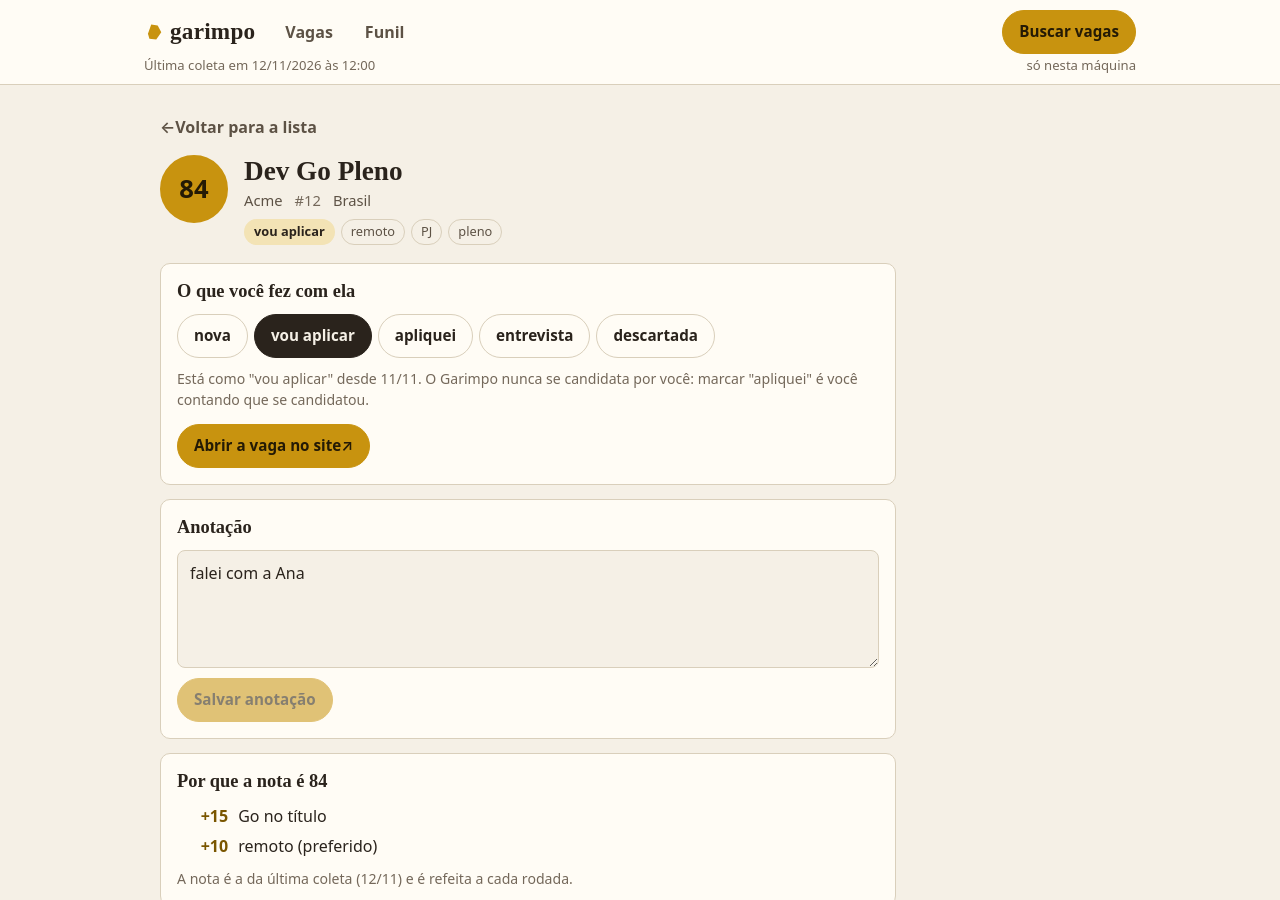
Scenario: the posting › saves and clears the note
Check: the button "Salvar anotação" is disabled, box [177,678,332,722]
Replace the text in the text box labelled "Anotação" with "faixa de 9 a 11 mil" at (528, 609), box [177,550,879,668]
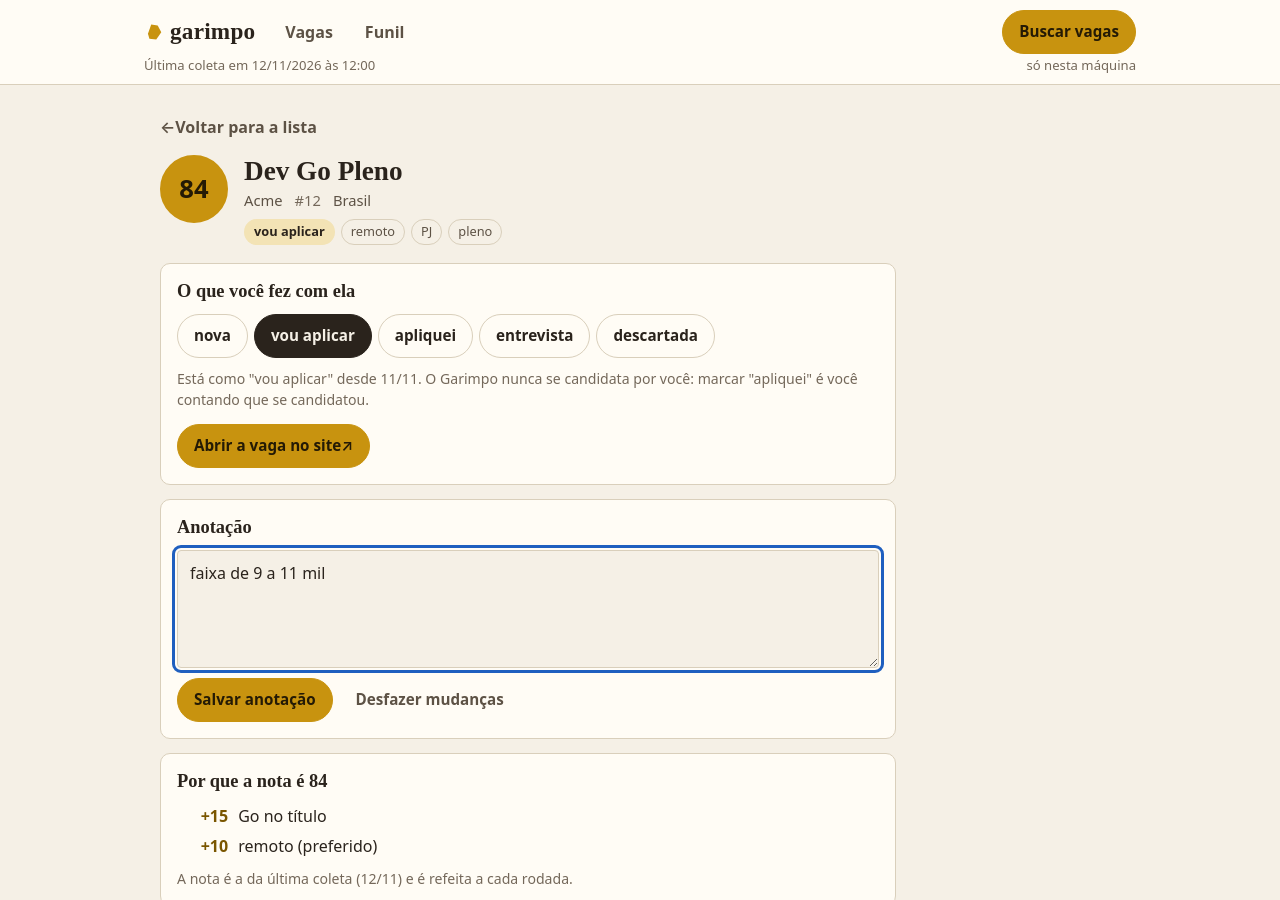
Click the button "Salvar anotação" at (255, 700), box [177,678,332,722]
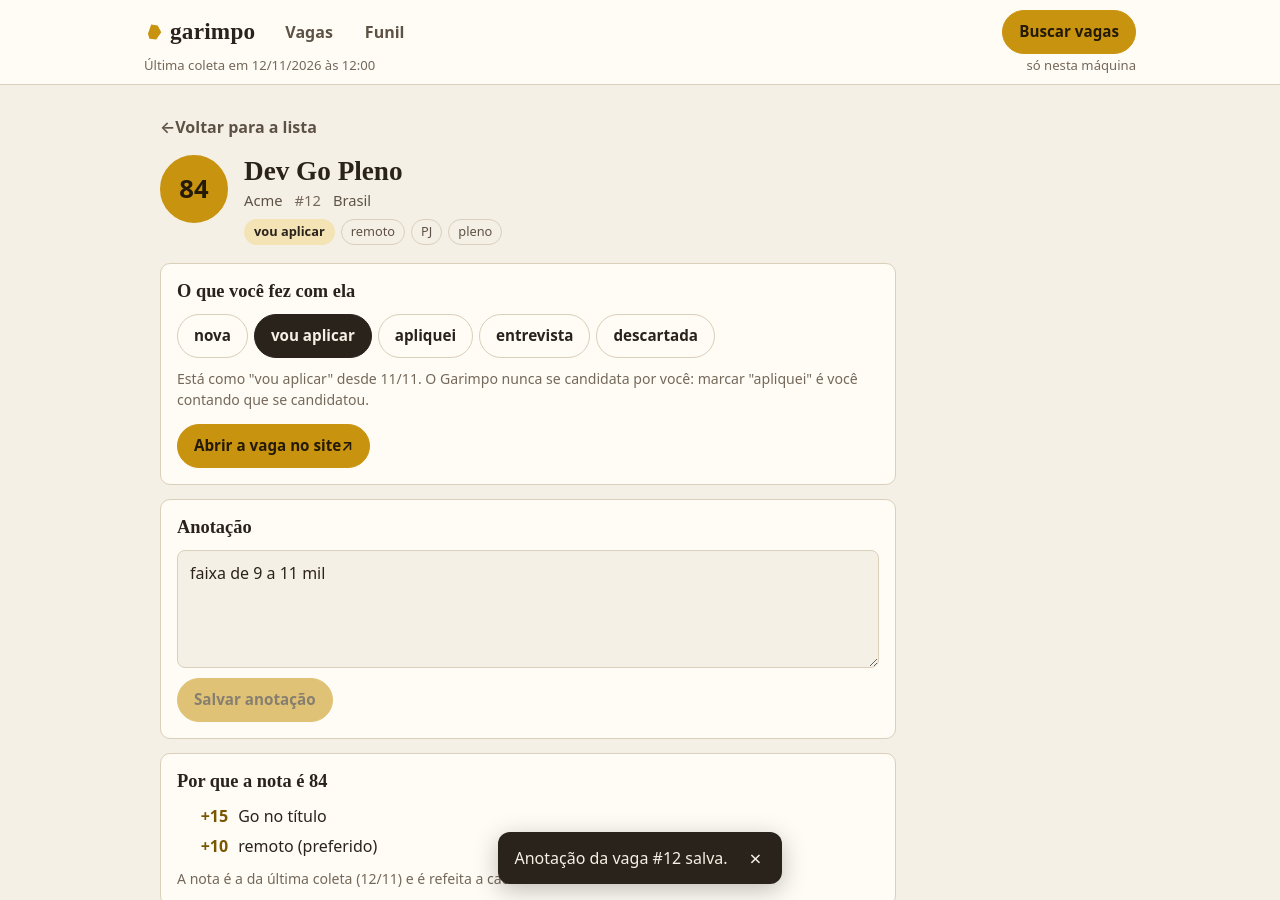
Check: the text "Anotação da vaga #12 salva." is shown, box [514,846,728,870]
Check: the button "Salvar anotação" is disabled, box [177,678,332,722]
Clear the text box labelled "Anotação" at (528, 609), box [177,550,879,668]
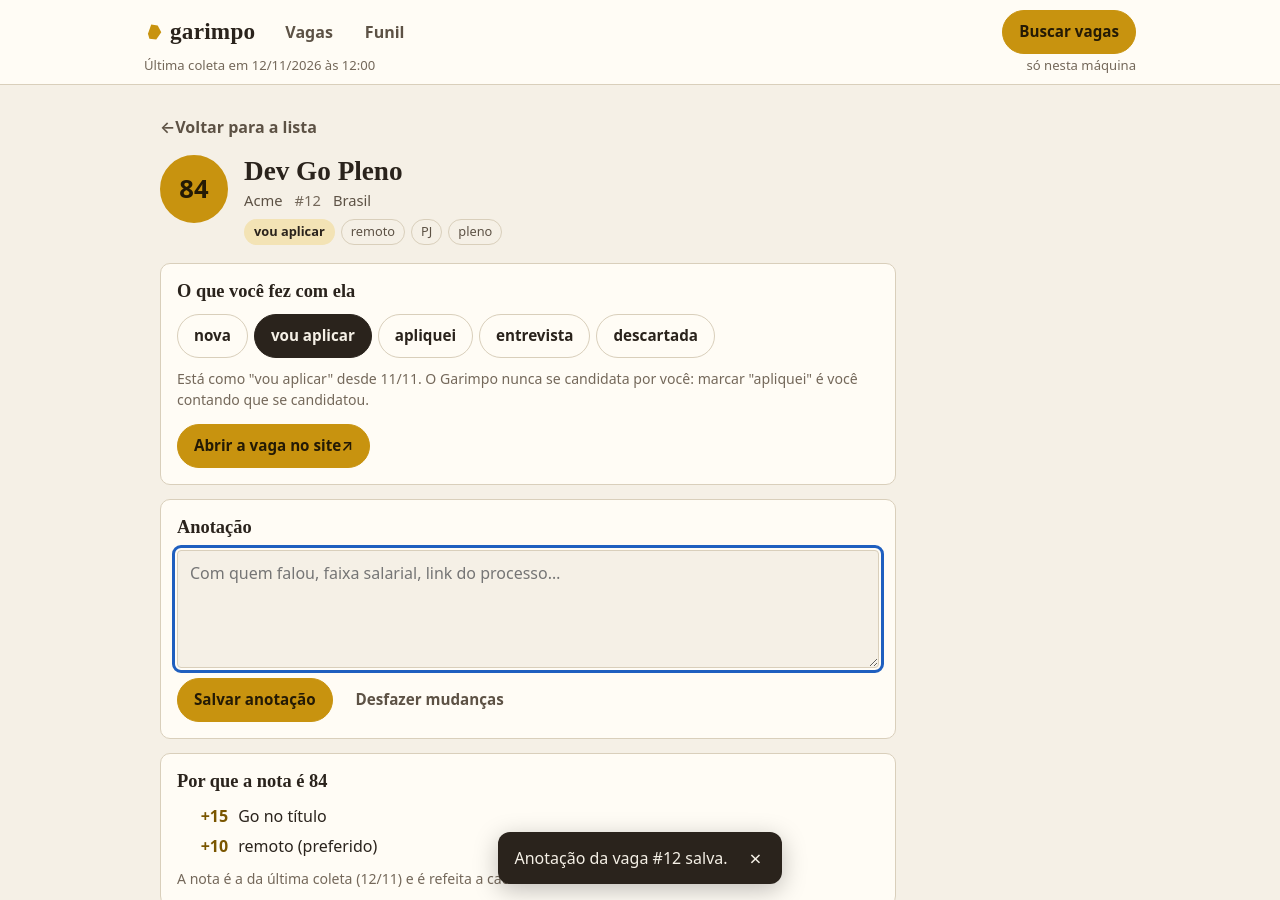
Click the button "Salvar anotação" at (255, 700), box [177,678,332,722]
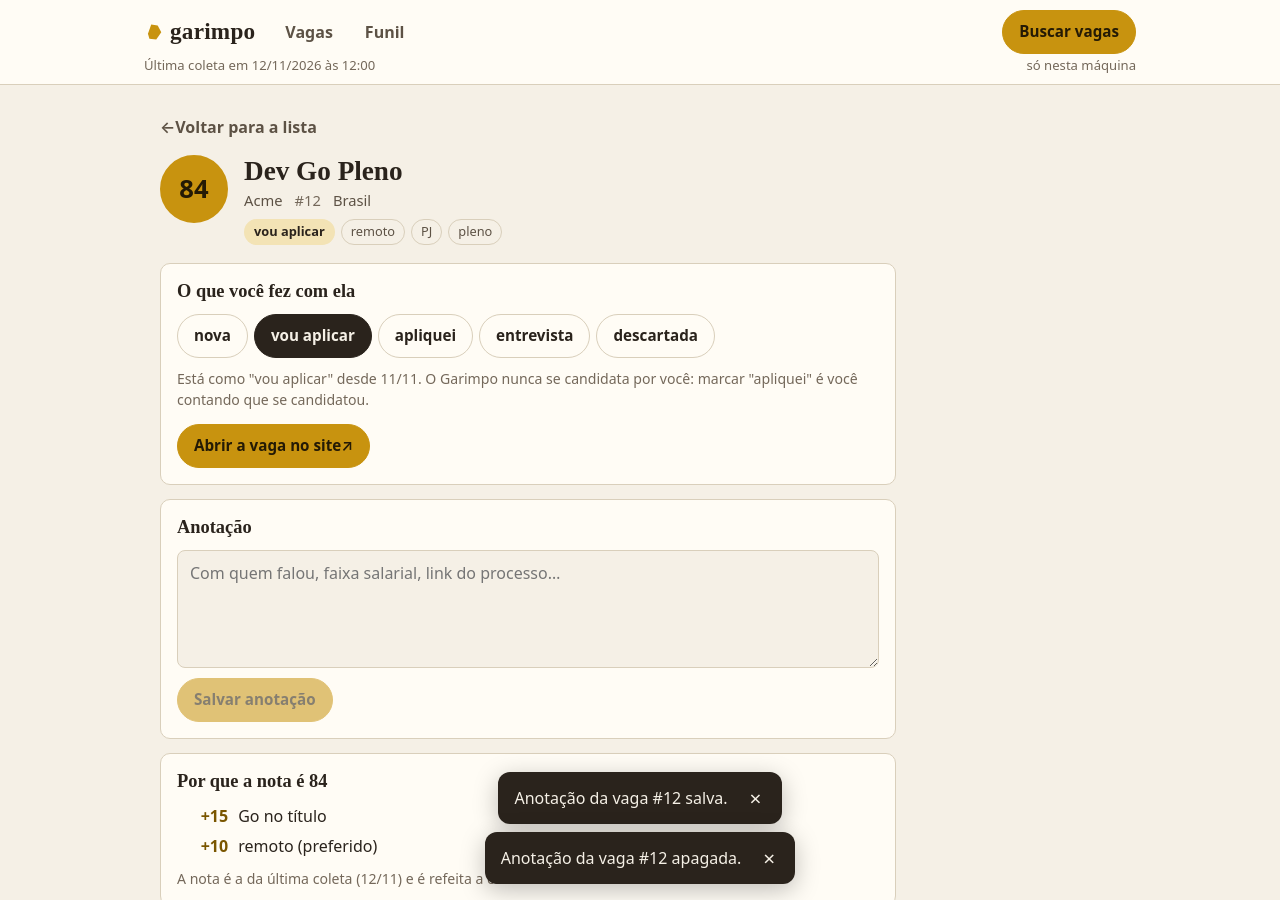
Check: the text "Anotação da vaga #12 apagada." is shown, box [501,846,741,870]
